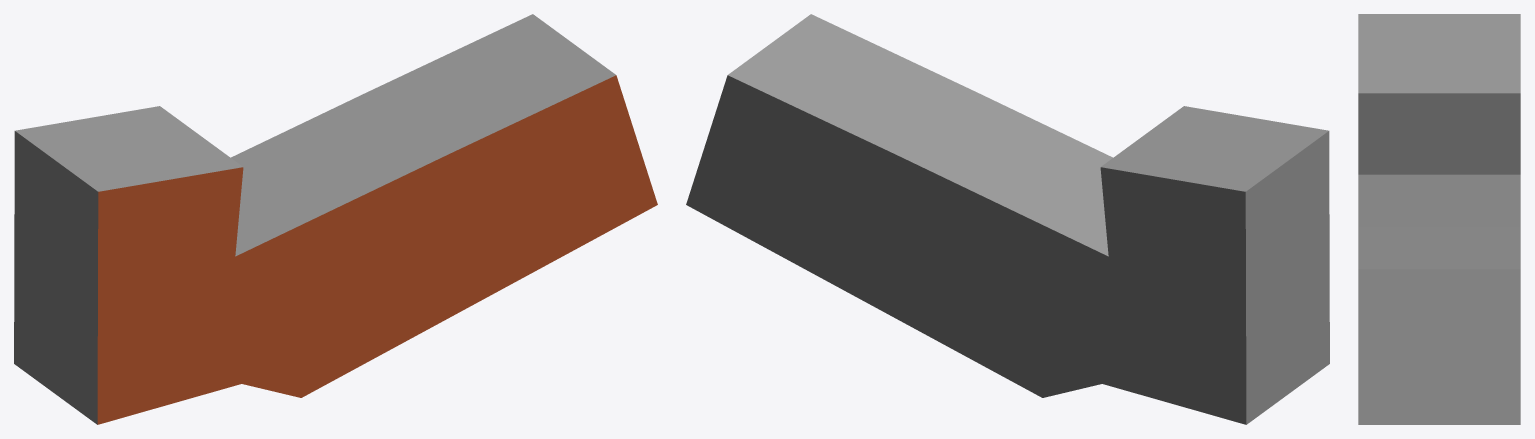
Rendered from construction_0416_assumed_A_Casa_h6m.obj.
3 renders of one model, left to right at view 1: azimuth 30°, elevation 25°; view 2: azimuth 150°, elevation 25°; view 3: azimuth 270°, elevation 25°, orthographic. The views are drawn at different scales.
Parts seen in each view (by area): view 1: construction_0416_assumed_A_Casa; view 2: construction_0416_assumed_A_Casa; view 3: construction_0416_assumed_A_Casa.
Part boxes in pixels (x1,y1,x2,y2): construction_0416_assumed_A_Casa: (14,14,657,424); construction_0416_assumed_A_Casa: (686,14,1329,424); construction_0416_assumed_A_Casa: (1358,14,1520,424).
Size of the model in its own units: 23.24 by 10.14 by 6.
